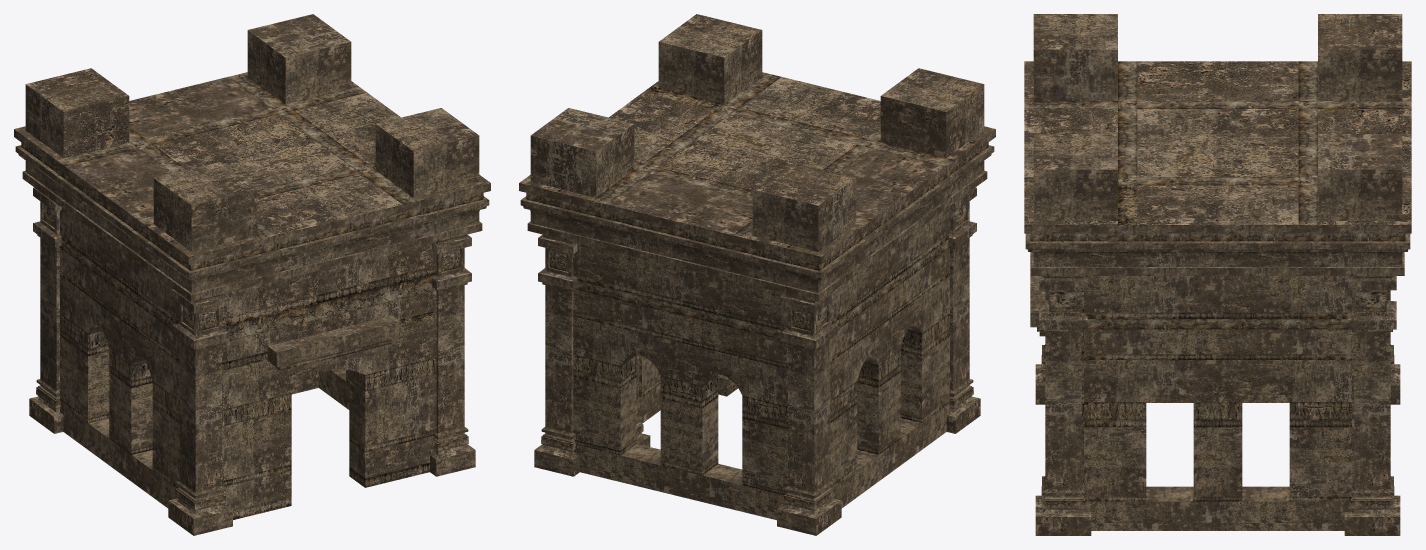
Rendered from materials_5_building_2.fbx.
3 views of the same model, side by side, from view 1: azimuth 30°, elevation 25°; view 2: azimuth 150°, elevation 25°; view 3: azimuth 270°, elevation 25° (orthographic). The views are drawn at different scales.
Parts seen in each view (by area): view 1: materials_5_building_2; view 2: materials_5_building_2; view 3: materials_5_building_2.
Part boxes in pixels (x1,y1,x2,y2): materials_5_building_2: (14, 14, 490, 535); materials_5_building_2: (519, 14, 995, 535); materials_5_building_2: (1024, 14, 1411, 535).
Bounding box in the file's own units: 709 × 743 × 709.
